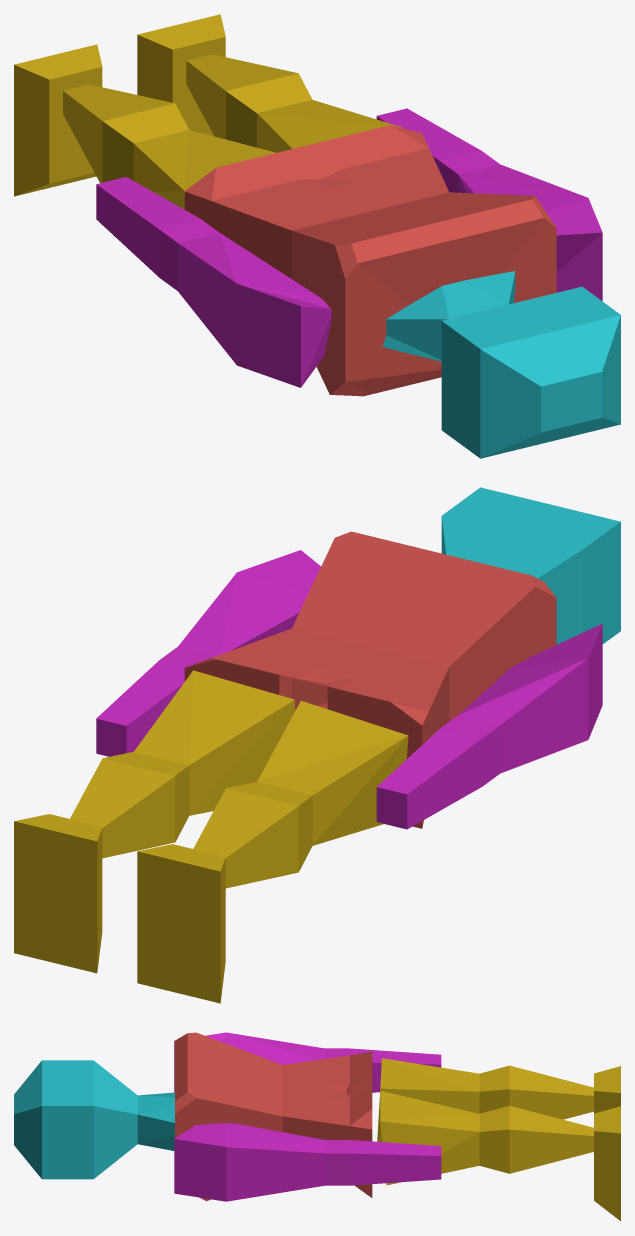
Rendered from perso2.obj.
The picture shows the model from 3 angles, top to bottom: view 1: azimuth 30°, elevation 25°; view 2: azimuth 150°, elevation 25°; view 3: azimuth 270°, elevation 25°; orthographic projection. The views are drawn at different scales.
Visible parts, largest first — view 1: torso, legs, arms, head; view 2: legs, torso, arms, head; view 3: legs, arms, torso, head.
Part boxes in pixels (bbox=[...]): torso: bbox=[184, 125, 556, 396]; legs: bbox=[14, 14, 401, 209]; arms: bbox=[96, 108, 602, 387]; head: bbox=[382, 271, 620, 458]; legs: bbox=[14, 670, 408, 1003]; torso: bbox=[184, 531, 556, 828]; arms: bbox=[96, 550, 602, 829]; head: bbox=[441, 487, 620, 644]; legs: bbox=[377, 1058, 620, 1220]; arms: bbox=[174, 1032, 441, 1201]; torso: bbox=[175, 1032, 372, 1201]; head: bbox=[14, 1060, 174, 1179].
Size of the model in its own units: 0.9832 by 0.501 by 2.2.
